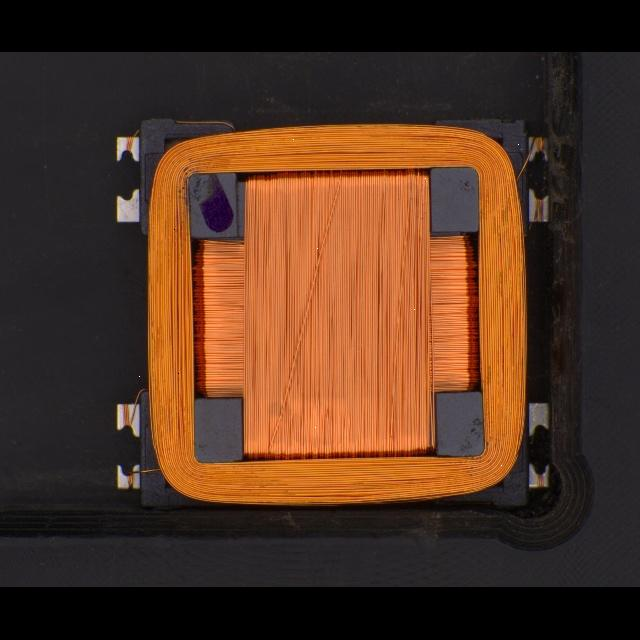Winding_Z: (132, 118, 531, 509)
